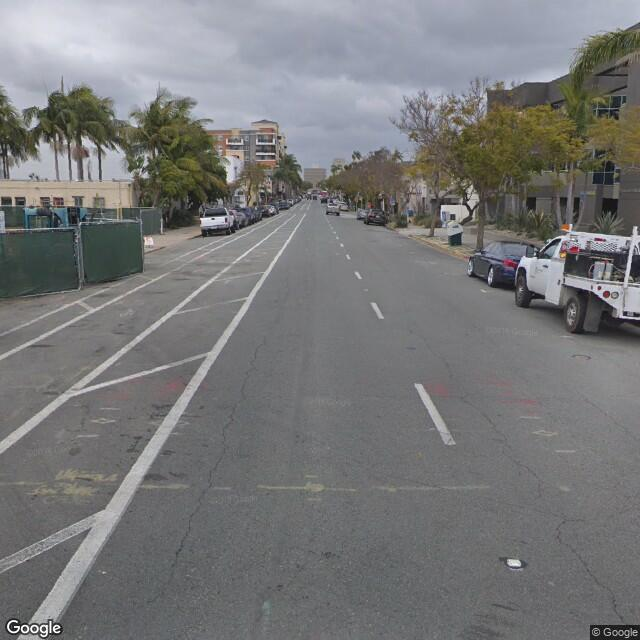road line: (336, 229, 389, 328)
